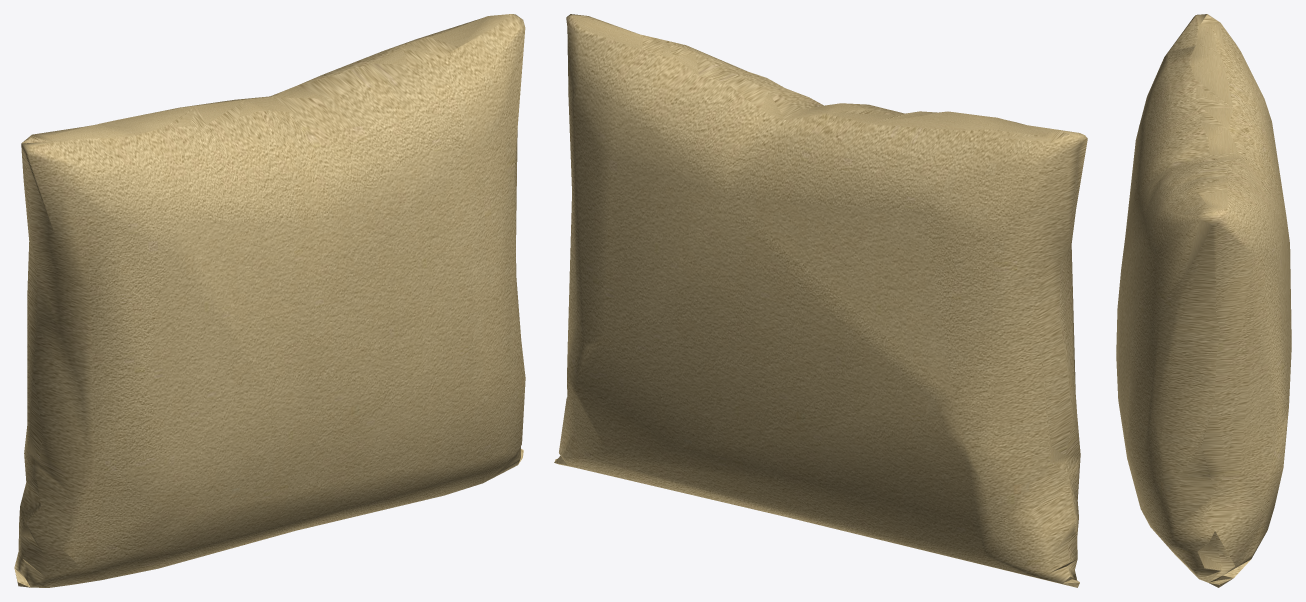
File: Pillow 2.FBX
3 renders of one model, left to right at view 1: azimuth 30°, elevation 25°; view 2: azimuth 150°, elevation 25°; view 3: azimuth 270°, elevation 25°, orthographic. The views are drawn at different scales.
Visible parts, largest first — view 1: pillow 2; view 2: pillow 2; view 3: pillow 2.
Part boxes in pixels (box(x1,y1,x2,y2)): pillow 2: box(14, 14, 525, 587); pillow 2: box(554, 14, 1087, 587); pillow 2: box(1116, 14, 1291, 587).
Size of the model in its own units: 63.2 by 52.83 by 22.49.
Materials: 1 (1 with a texture image).
